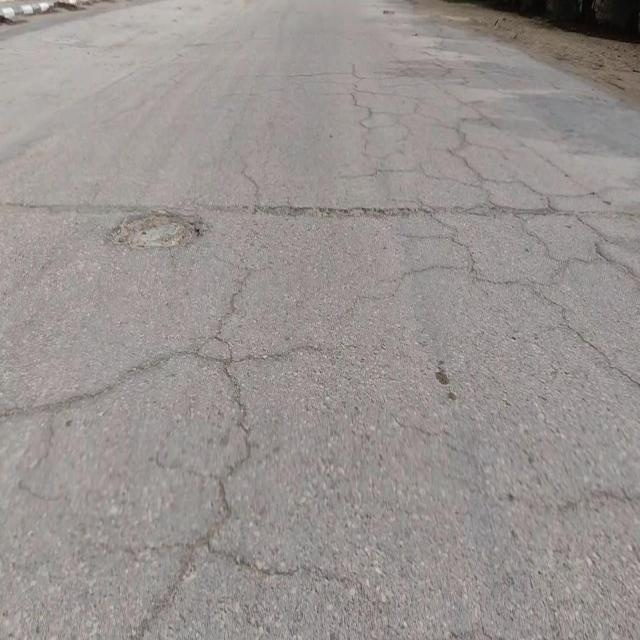pothole: (105, 208, 207, 250)
